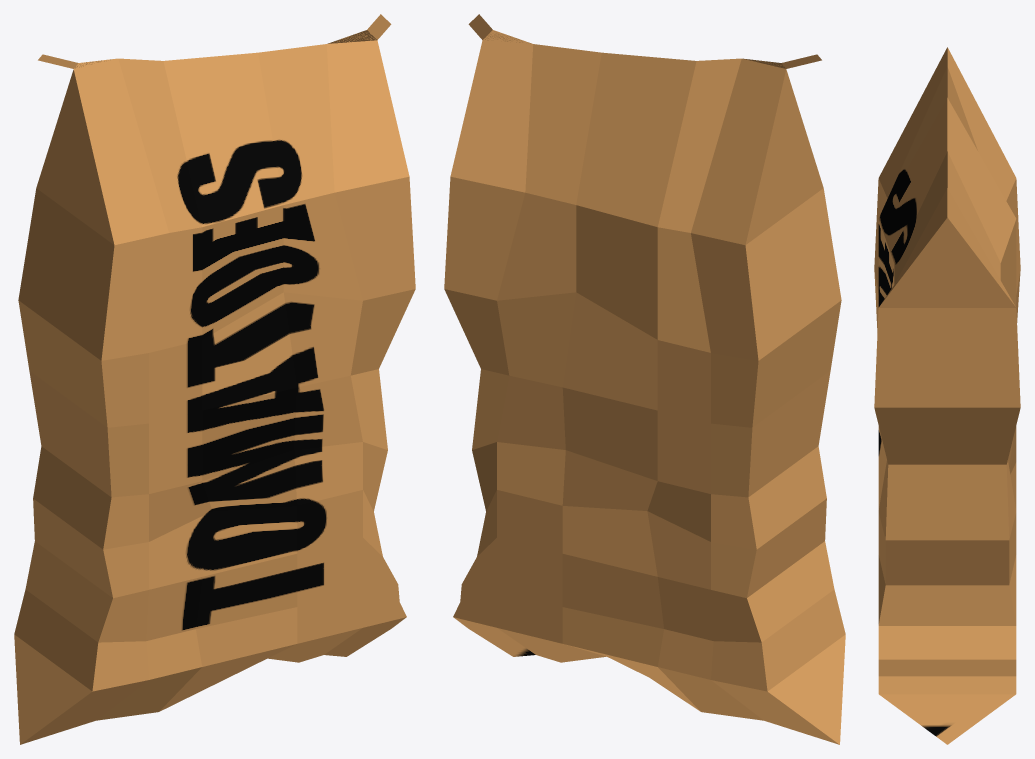
Rendered from sackTomats.glb.
3 views of the same model, side by side, from view 1: azimuth 30°, elevation 25°; view 2: azimuth 150°, elevation 25°; view 3: azimuth 270°, elevation 25° (orthographic). The views are drawn at different scales.
Visible parts, largest first — view 1: Cube; view 2: Cube; view 3: Cube.
Part boxes in pixels (left/top/right/bottom): Cube: left=14, top=14, right=415, bottom=744; Cube: left=444, top=14, right=845, bottom=744; Cube: left=874, top=47, right=1020, bottom=744.
Size of the model in its own units: 2.28 by 4.03 by 0.885.
1 material, 1 textured.
